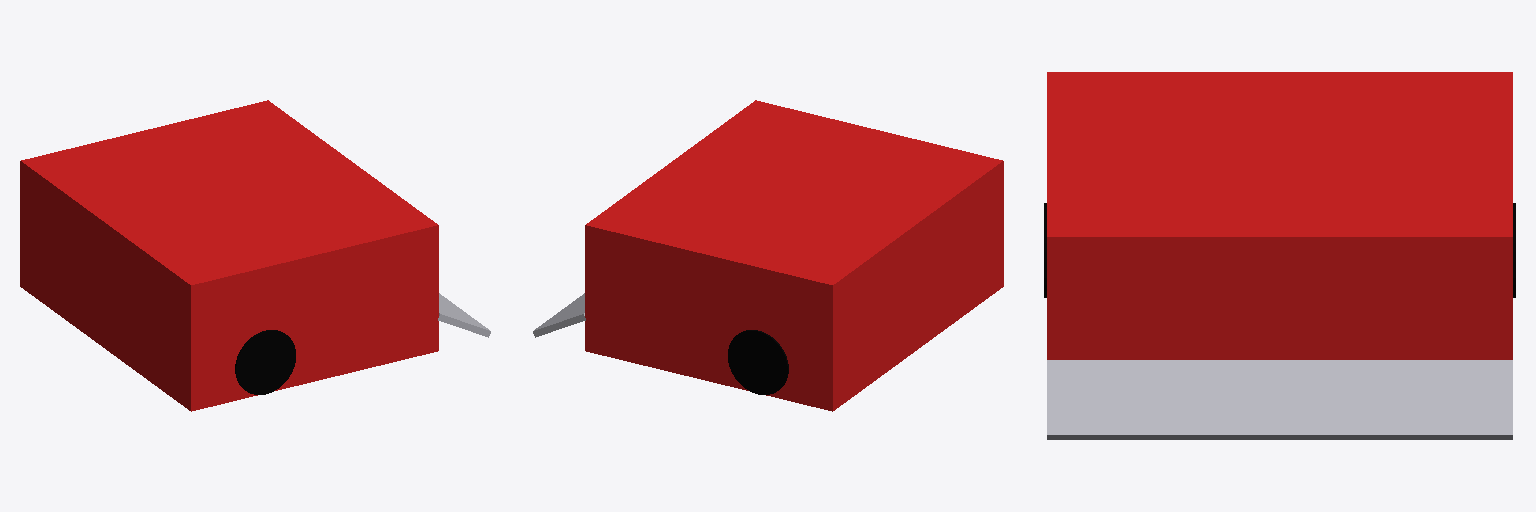
robot.urdf — mini_sumo:
<?xml version="1.0"?>
<!--
  Mini Sumo agent — 400 RPM upgrade.

  Frame convention:
    base_link origin sits at the centre of the 99.25 × 98 mm footprint,
    on the floor plane. +X is forward, +Y is left, +Z is up.

  Outer dimensions:
    Total length (X) : 99.25 mm   ( front +0.0496, rear -0.0496 )
    Total width  (Y) : 98 mm      ( ±0.049 )
    Chassis box      : 82.2 × 98 × 40 mm  ( -0.0496 ≤ x ≤ +0.0326 )
    Wedge            : 17 mm long, slope 0.5 mm tip → 10 mm trailing edge

  Mass / CoM:
    Total                    : 0.45 kg
    CoM (relative to origin) : x = +0.0016 m  (48 mm behind the front tip)
                                y = 0
                                z = 0.007 m   (7 mm above floor)

  Wheels:
    Diameter 20 mm (r=0.010), width 19 mm. Track width 80.2 mm
    (axles at y = ±0.0401). Axle z = 0.010 so the chassis rides extremely
    low. Mounted near the rear at x = -0.025.
-->
<robot name="mini_sumo">

  <!-- ======================== CHASSIS ======================== -->
  <link name="base_link">
    <inertial>
      <!-- CoM 48 mm behind the front tip (= +0.0496 - 0.048 = +0.0016)
           and 7 mm above the floor; mass 0.45 kg. -->
      <origin xyz="0.0016 0.0 0.007" rpy="0 0 0"/>
      <mass value="0.45"/>
      <!-- Chassis-box principal moments at 0.45 kg:
           Ixx = (m/12)*(W^2 + H^2) = 4.20e-4
           Iyy = (m/12)*(L^2 + H^2) = 3.13e-4
           Izz = (m/12)*(L^2 + W^2) = 6.14e-4 -->
      <inertia ixx="4.20e-4" ixy="0" ixz="0"
               iyy="3.13e-4" iyz="0"
               izz="6.14e-4"/>
    </inertial>

    <visual>
      <!-- Chassis box centred between the rear face (-0.0496) and the
           wedge boundary (+0.0326) -> centre x = -0.0085. Bottom rests
           at z = 0 (wheels share that contact plane). -->
      <origin xyz="-0.0085 0.0 0.020" rpy="0 0 0"/>
      <geometry>
        <box size="0.0822 0.098 0.040"/>
      </geometry>
      <material name="red">
        <color rgba="0.85 0.15 0.15 1.0"/>
      </material>
    </visual>

    <collision>
      <origin xyz="-0.0085 0.0 0.020" rpy="0 0 0"/>
      <geometry>
        <box size="0.0822 0.098 0.040"/>
      </geometry>
    </collision>
  </link>

  <!-- ============== FRONT CASTER (invisible slider) ========== -->
  <link name="front_caster">
    <inertial>
      <origin xyz="0 0 0" rpy="0 0 0"/>
      <mass value="0.001"/>
      <inertia ixx="1e-9" ixy="0" ixz="0"
               iyy="1e-9" iyz="0"
               izz="1e-9"/>
    </inertial>
    <collision>
      <origin xyz="0 0 0" rpy="0 0 0"/>
      <geometry>
        <sphere radius="0.003"/>
      </geometry>
    </collision>
    <contact>
      <lateral_friction value="0.0"/>
      <rolling_friction value="0.0"/>
      <spinning_friction value="0.0"/>
    </contact>
  </link>

  <joint name="front_caster_joint" type="fixed">
    <parent link="base_link"/>
    <child  link="front_caster"/>
    <!-- Just behind the wedge mount, under the chassis bottom edge so
         the chassis nose can't snag if it tips forward. -->
    <origin xyz="0.025 0.0 0.003" rpy="0 0 0"/>
  </joint>

  <!-- ====================== NOSE WEDGE ======================= -->
  <!-- Slab geometry (in body frame):
         trailing edge (top, joins chassis) : x = +0.0326,  z = 0.010
         leading edge (sharp tip)           : x = +0.0496,  z = 0.0005
         slope length  = sqrt(17^2 + 9.5^2) = 19.48 mm
         pitch (about Y) = atan2(9.5, 17) = 0.5101 rad (~29 deg) -->
  <link name="nose_wedge">
    <inertial>
      <origin xyz="0 0 0" rpy="0 0 0"/>
      <mass value="0.02"/>
      <!-- Slab inertia for box (0.01948 x 0.098 x 0.002), m=0.02.
           Iyy bumped from computed 6.4e-7 to 1.5e-6 to give margin
           under PyBullet's strict triangle inequality. -->
      <inertia ixx="1.601e-5" ixy="0" ixz="0"
               iyy="1.5e-6"   iyz="0"
               izz="1.664e-5"/>
    </inertial>

    <visual>
      <origin xyz="0 0 0" rpy="0 0 0"/>
      <geometry>
        <!-- slope-length × chassis-width × thin -->
        <box size="0.01948 0.098 0.002"/>
      </geometry>
      <material name="silver">
        <color rgba="0.75 0.75 0.78 1.0"/>
      </material>
    </visual>

    <collision>
      <origin xyz="0 0 0" rpy="0 0 0"/>
      <geometry>
        <box size="0.01948 0.098 0.002"/>
      </geometry>
    </collision>

    <contact>
      <!-- Slick face so it slides under the opponent rather than grabbing. -->
      <lateral_friction value="0.3"/>
    </contact>
  </link>

  <joint name="nose_wedge_joint" type="fixed">
    <parent link="base_link"/>
    <child  link="nose_wedge"/>
    <!-- Slab centre at the midpoint of trailing and leading edges,
         rotated so its long axis runs down-slope. With pitch 0.5101 rad
         and 2 mm thickness, an origin z of 0.0061 places the leading-
         edge bottom corner at z ≈ 0.0005 (the spec'd lowest Z). -->
    <origin xyz="0.0411 0.0 0.0061" rpy="0 0.5101 0"/>
  </joint>

  <!-- ===================== LEFT WHEEL ======================== -->
  <link name="left_wheel">
    <inertial>
      <origin xyz="0 0 0" rpy="0 0 0"/>
      <mass value="0.025"/>
      <!-- Cylinder, r=0.010, h=0.019, axis along link +Y after the
           90 deg roll:
             Iyy (rolling)        = 0.5*m*r^2                = 1.25e-6
             Ixx = Izz            = (m/12)*(3*r^2 + h^2)     = 1.378e-6 -->
      <inertia ixx="1.378e-6" ixy="0" ixz="0"
               iyy="1.25e-6"  iyz="0"
               izz="1.378e-6"/>
    </inertial>

    <visual>
      <!-- Roll 90 deg so the cylinder lies on its side and rolls about Y. -->
      <origin xyz="0 0 0" rpy="1.5708 0 0"/>
      <geometry>
        <cylinder radius="0.010" length="0.019"/>
      </geometry>
      <material name="black">
        <color rgba="0.05 0.05 0.05 1.0"/>
      </material>
    </visual>

    <collision>
      <origin xyz="0 0 0" rpy="1.5708 0 0"/>
      <geometry>
        <cylinder radius="0.010" length="0.019"/>
      </geometry>
    </collision>

    <contact>
      <lateral_friction value="1.0"/>
    </contact>
  </link>

  <joint name="left_wheel_joint" type="continuous">
    <parent link="base_link"/>
    <child  link="left_wheel"/>
    <!-- Axle 25 mm behind centre, +40.1 mm to the left, 10 mm above
         floor so the chassis rides very low. -->
    <origin xyz="-0.025 0.0401 0.010" rpy="0 0 0"/>
    <axis xyz="0 1 0"/>
  </joint>

  <!-- ===================== RIGHT WHEEL ======================= -->
  <link name="right_wheel">
    <inertial>
      <origin xyz="0 0 0" rpy="0 0 0"/>
      <mass value="0.025"/>
      <inertia ixx="1.378e-6" ixy="0" ixz="0"
               iyy="1.25e-6"  iyz="0"
               izz="1.378e-6"/>
    </inertial>

    <visual>
      <origin xyz="0 0 0" rpy="1.5708 0 0"/>
      <geometry>
        <cylinder radius="0.010" length="0.019"/>
      </geometry>
      <material name="black"/>
    </visual>

    <collision>
      <origin xyz="0 0 0" rpy="1.5708 0 0"/>
      <geometry>
        <cylinder radius="0.010" length="0.019"/>
      </geometry>
    </collision>

    <contact>
      <lateral_friction value="1.0"/>
    </contact>
  </link>

  <joint name="right_wheel_joint" type="continuous">
    <parent link="base_link"/>
    <child  link="right_wheel"/>
    <origin xyz="-0.025 -0.0401 0.010" rpy="0 0 0"/>
    <axis xyz="0 1 0"/>
  </joint>

</robot>

--- Render facts (derived) ---
Views: 3 orthographic renders of the robot side by side, from view 1: azimuth 30°, elevation 25°; view 2: azimuth 150°, elevation 25°; view 3: azimuth 270°, elevation 25°.
Robot: mini_sumo — 5 links, 4 joints (2 continuous, 2 fixed); root link base_link; default pose: all joints at 0.
Visible links, largest first — view 1: base_link, right_wheel, nose_wedge; view 2: base_link, left_wheel, nose_wedge; view 3: base_link, nose_wedge.
Boxes of the visible links, <box> form: base_link: <box>20,100,438,411</box>; right_wheel: <box>235,330,295,394</box>; nose_wedge: <box>438,293,490,337</box>; base_link: <box>585,100,1003,411</box>; left_wheel: <box>728,330,788,394</box>; nose_wedge: <box>533,293,585,337</box>; base_link: <box>1047,72,1512,359</box>; nose_wedge: <box>1047,360,1512,439</box>.
Bounding box of the posed robot: 0.0997 × 0.0992 × 0.04 m (x, y, z).
Geometry: primitives only (box / cylinder / sphere), no mesh files.
